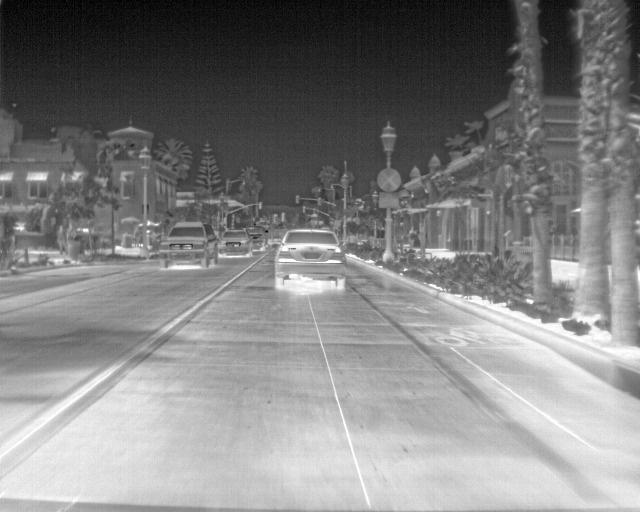bicycle: (272, 226, 348, 289), (159, 221, 221, 268), (221, 230, 252, 256), (245, 226, 265, 250)
empty: (65, 222, 77, 251), (56, 225, 68, 252), (406, 226, 419, 248)
